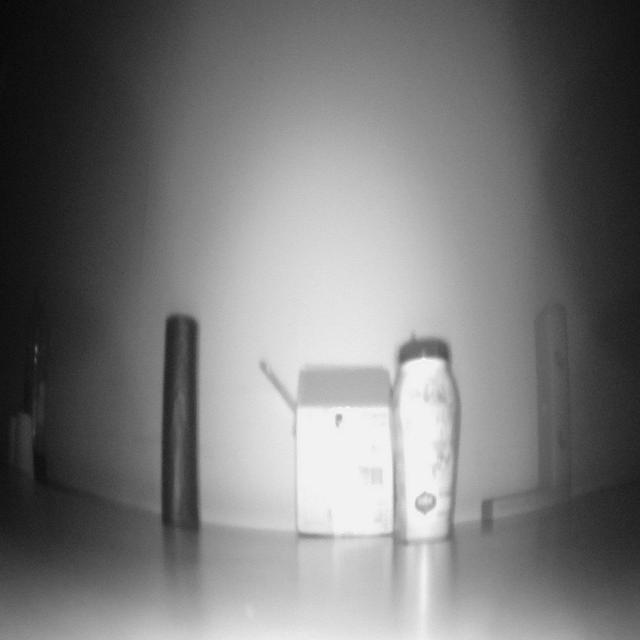targets: (292, 364, 396, 536), (393, 338, 461, 535), (531, 306, 572, 508), (165, 317, 196, 527), (484, 492, 560, 532), (32, 303, 48, 491), (11, 411, 33, 482)
